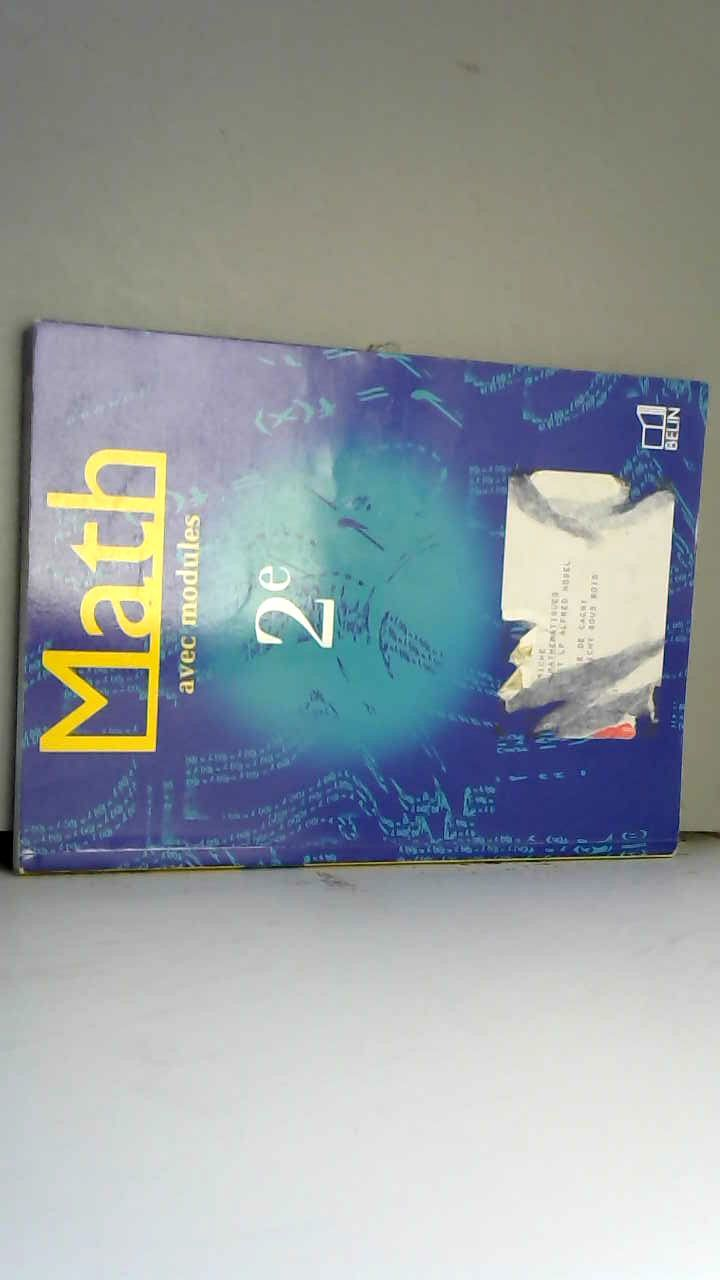book: (0, 305, 716, 893)
